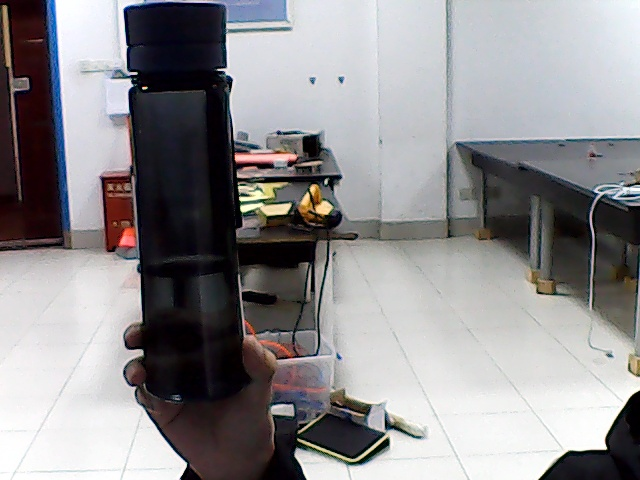cup: (134, 33, 231, 386)
